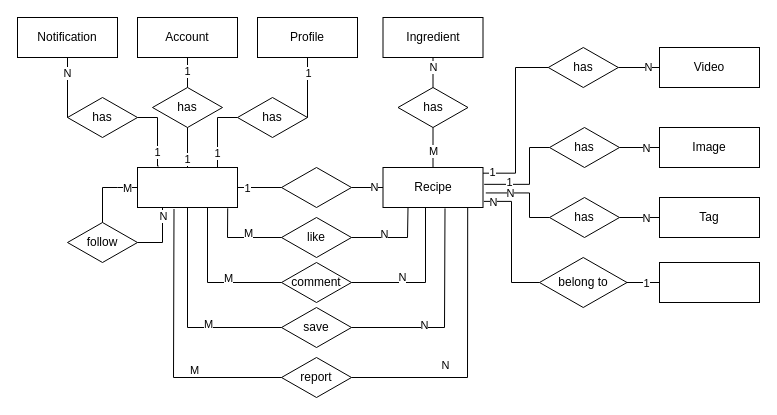
The diagram is 777 pixels wide and 415 high, and some of its shapes have lost their labels. The shapes that lost their labels are listed below. From the top down, each one's box as (x1, y1, x2, y2) in pixels, then its label:
(136, 166, 238, 208): User
(280, 166, 352, 208): create
(658, 262, 760, 302): Category
